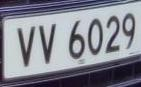0: (86, 13, 106, 61)
2: (104, 11, 122, 58)
6: (67, 16, 88, 65)
9: (121, 8, 138, 55)
V: (16, 23, 39, 70), (38, 20, 60, 68)
